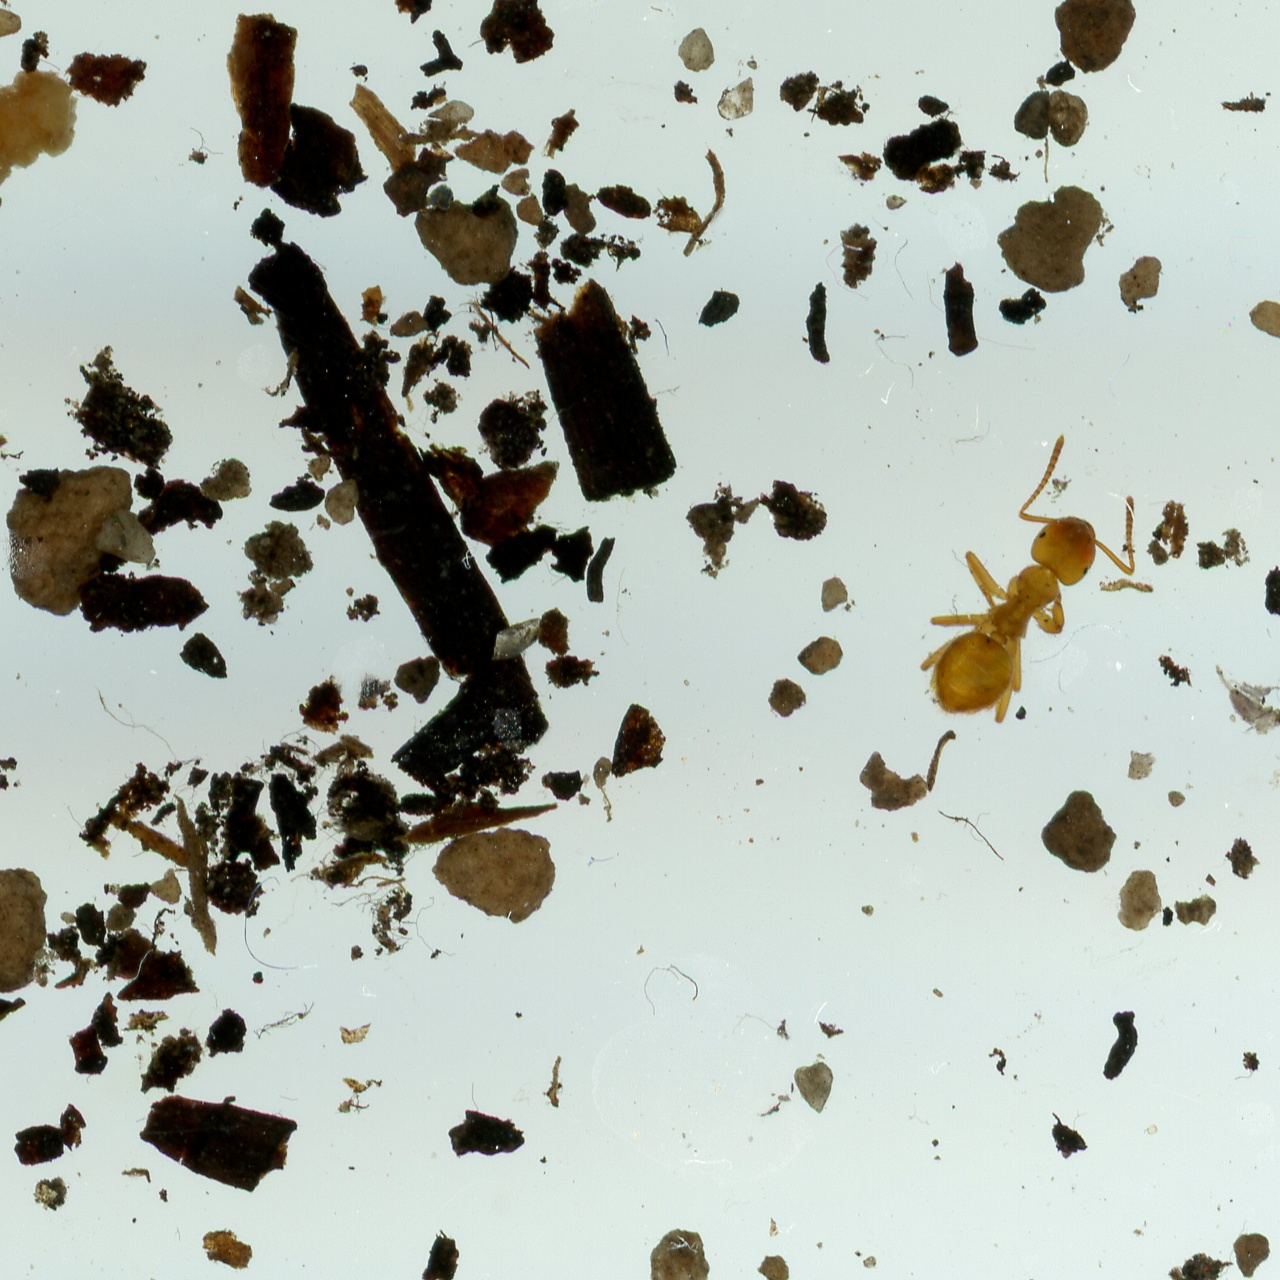arthropod: (887, 414, 1183, 769), (1214, 663, 1280, 737), (1228, 677, 1280, 702)
